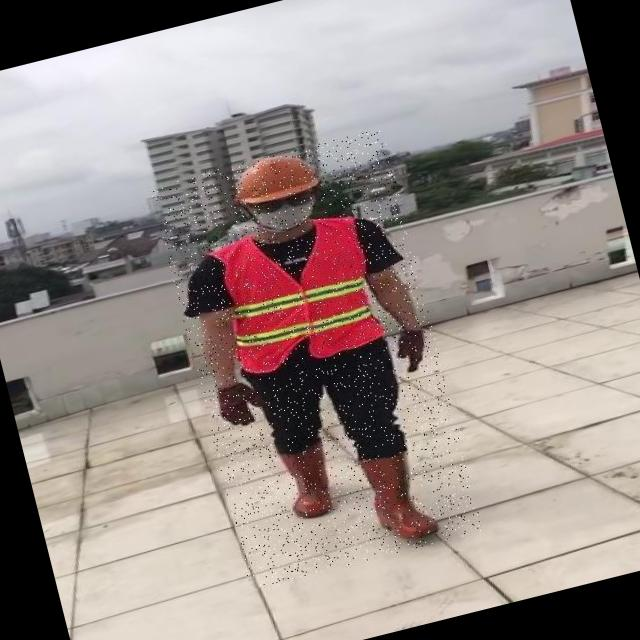hard_hat: (226, 144, 326, 208)
safety_vest: (208, 208, 390, 375)
vehicle: (150, 127, 483, 589)
work_boots: (358, 443, 442, 548), (278, 440, 340, 521)
